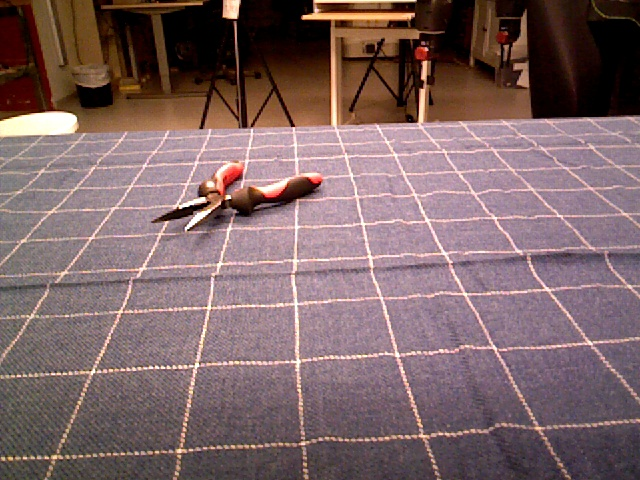plier1: (150, 161, 326, 233)
